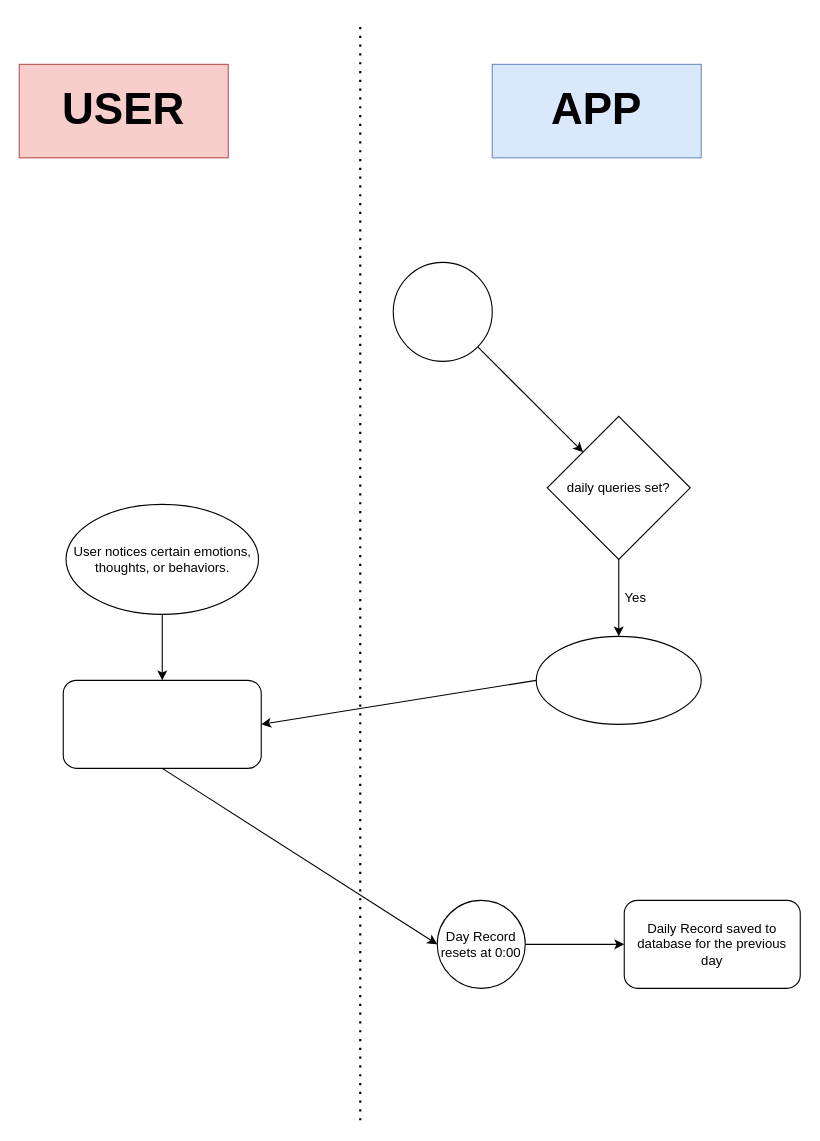
Some shapes in this 820 by 1141 pixel diagram are drawn without their labels. The shapes that lost their labels are listed below. From the top down, each one's centre as x and y in pixels, then its label:
(442,311): Daily Record starts with an empty list
(618,679): Application asks what the user is up to
(161,723): User enters emotions, thoughts, behaviors, physical symptoms.
